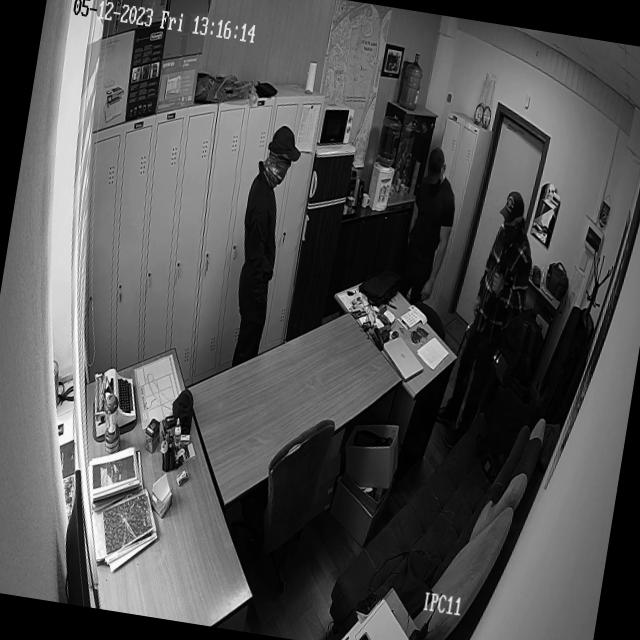gun: (476, 228, 514, 356)
person: (222, 122, 298, 364), (398, 146, 462, 293)
person with a gun: (436, 188, 543, 442)
